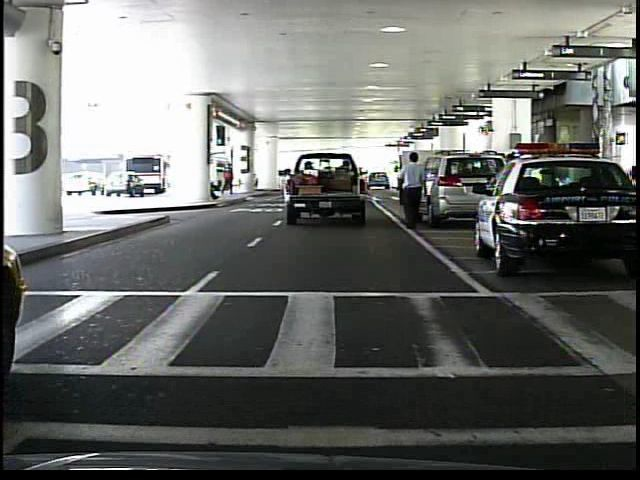person: (396, 152, 434, 231), (221, 160, 237, 198)
